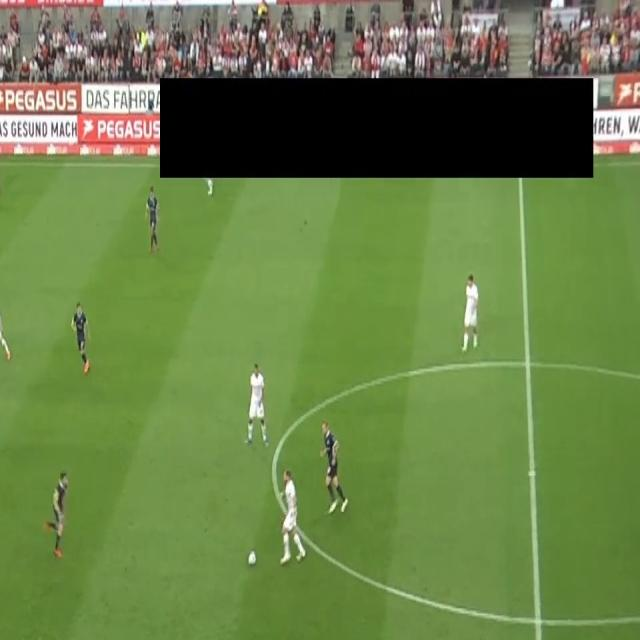ball: (246, 549, 258, 568)
